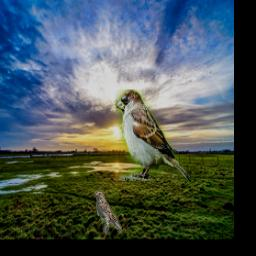Sparrow: (116, 90, 191, 182), (95, 191, 123, 235)
